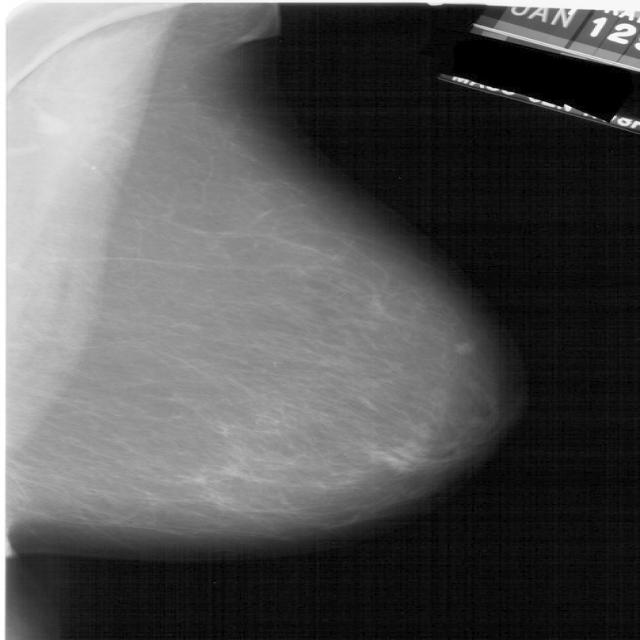tumour: (449, 340, 476, 356)
